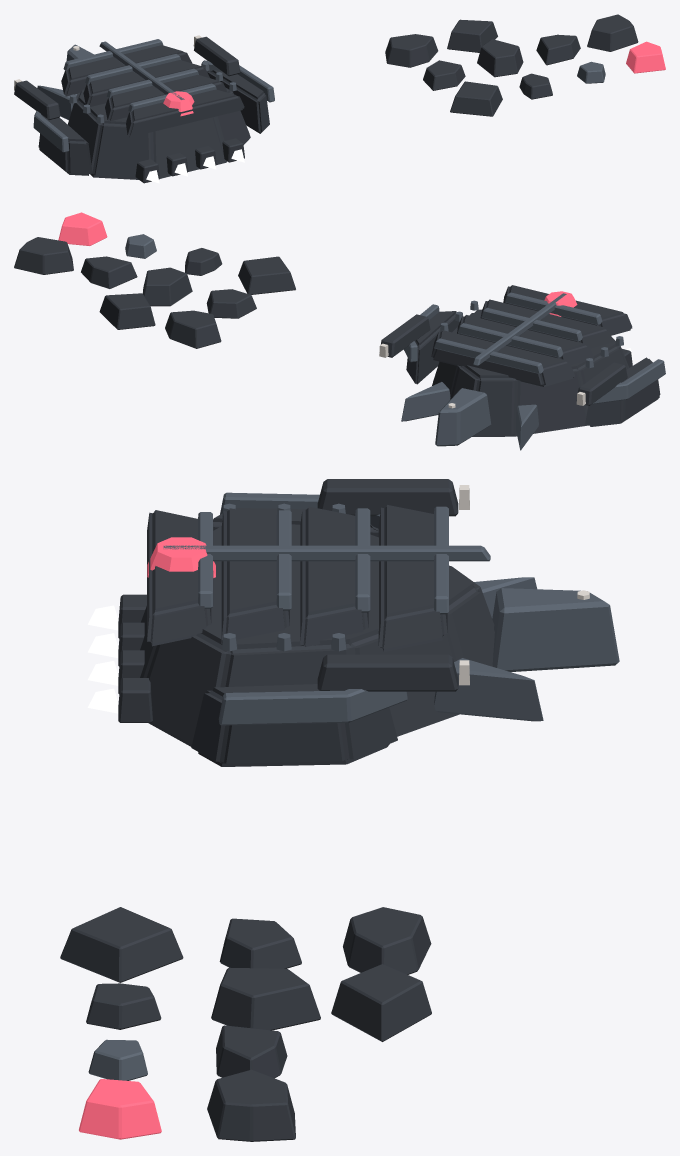
The model's file is Enemy_Brute_v4.fbx.
The picture shows the model from 3 angles, top to bottom: view 1: azimuth 30°, elevation 25°; view 2: azimuth 150°, elevation 25°; view 3: azimuth 270°, elevation 25°; orthographic projection. The views are drawn at different scales.
Visible parts, largest first — view 1: Body, Plate_04, Plate_01, Shoulder_L, Plate_02, Plate_03, Shoulder_R, Enemy_Brute_v4_Chunk_09, Enemy_Brute_v4_Chunk_01, Enemy_Brute_v4_Chunk_08, Enemy_Brute_v4_Chunk_06, Enemy_Brute_v4_Chunk_10 (+20 smaller); view 2: Body, Plate_01, Horn, Shoulder_L, Enemy_Brute_v4_Chunk_08, Enemy_Brute_v4_Chunk_01, Enemy_Brute_v4_Chunk_09, Plate_02, Enemy_Brute_v4_Chunk_10, Plate_03, Enemy_Brute_v4_Chunk_06, Shoulder_R (+18 smaller); view 3: Body, Shoulder_R, Horn, Plate_01, Plate_02, Plate_03, Enemy_Brute_v4_Chunk_01, Enemy_Brute_v4_Chunk_06, Trim_Shoulder_R, Plate_04, Enemy_Brute_v4_Chunk_08, Enemy_Brute_v4_Chunk_10 (+17 smaller).
Boxes of the visible parts, x1,y1,x2,y2 form: Body: (68, 87, 250, 179); Plate_04: (126, 89, 244, 137); Plate_01: (61, 45, 191, 96); Shoulder_L: (38, 117, 92, 175); Plate_02: (83, 60, 209, 106); Plate_03: (105, 74, 226, 122); Shoulder_R: (207, 70, 269, 133); Enemy_Brute_v4_Chunk_09: (385, 34, 438, 67); Enemy_Brute_v4_Chunk_01: (450, 81, 502, 116); Enemy_Brute_v4_Chunk_08: (587, 14, 638, 51); Enemy_Brute_v4_Chunk_06: (477, 39, 523, 77); Enemy_Brute_v4_Chunk_10: (447, 19, 497, 52); Body: (432, 309, 629, 436); Plate_01: (431, 330, 574, 386); Horn: (435, 388, 491, 446); Shoulder_L: (585, 357, 660, 426); Enemy_Brute_v4_Chunk_08: (14, 237, 73, 274); Enemy_Brute_v4_Chunk_01: (238, 256, 295, 294); Enemy_Brute_v4_Chunk_09: (165, 310, 221, 348); Plate_02: (457, 315, 594, 364); Enemy_Brute_v4_Chunk_10: (99, 293, 155, 329); Plate_03: (480, 299, 613, 348); Enemy_Brute_v4_Chunk_06: (142, 267, 192, 306); Shoulder_R: (406, 311, 459, 384); Body: (140, 524, 511, 746); Shoulder_R: (191, 684, 397, 766); Horn: (492, 588, 619, 671); Plate_01: (378, 505, 447, 651); Plate_02: (300, 506, 368, 646); Plate_03: (221, 508, 289, 643); Enemy_Brute_v4_Chunk_01: (60, 907, 183, 982); Enemy_Brute_v4_Chunk_06: (211, 967, 320, 1030); Trim_Shoulder_R: (218, 689, 407, 725); Plate_04: (147, 510, 211, 646); Enemy_Brute_v4_Chunk_08: (207, 1069, 295, 1141); Enemy_Brute_v4_Chunk_10: (331, 964, 431, 1041).
Size of the model in its own units: 6.11 by 0.68 by 2.56.
